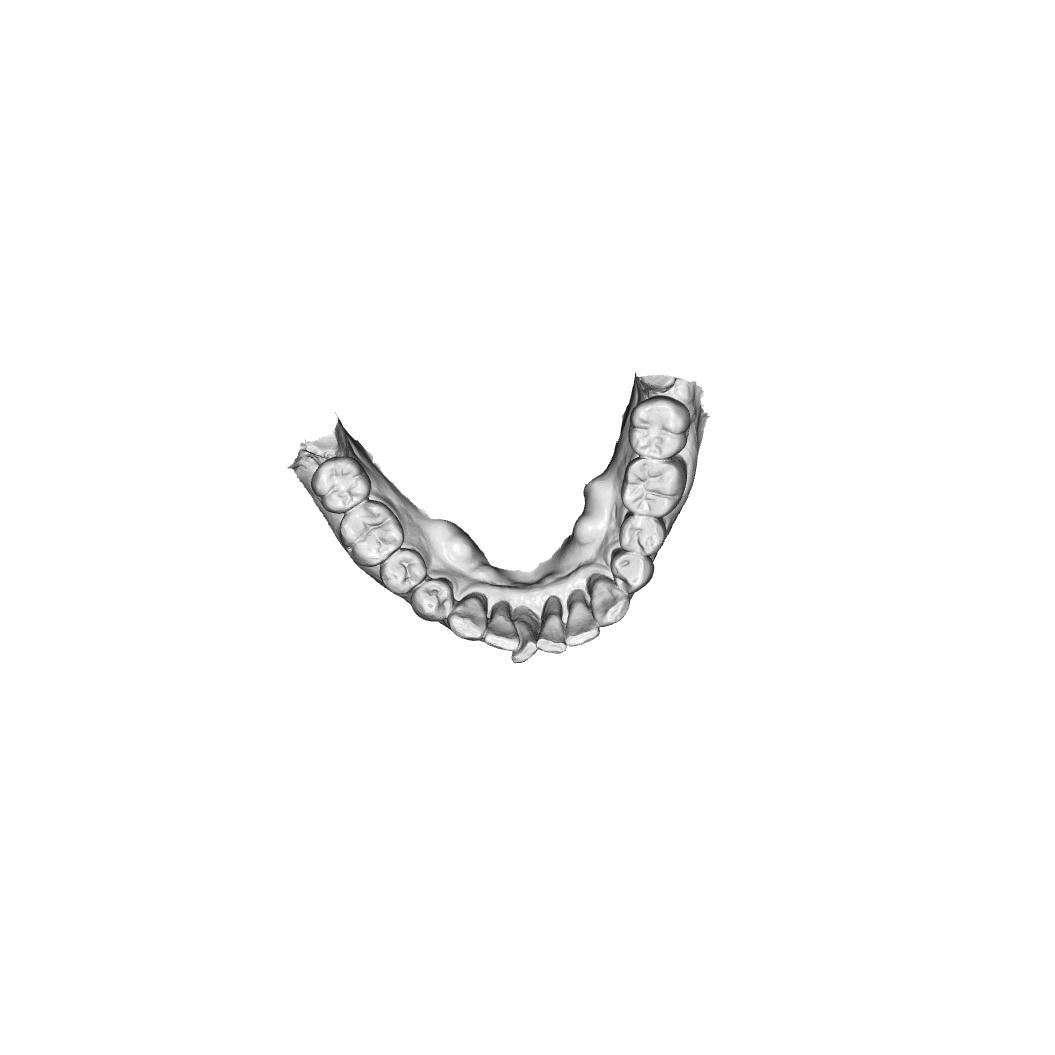canine: (589, 578, 631, 628), (447, 595, 488, 641)
incisor: (563, 600, 601, 648), (484, 611, 520, 653), (536, 612, 567, 655), (511, 617, 538, 664)
molar: (338, 499, 405, 568), (628, 394, 691, 460), (620, 459, 688, 519), (310, 456, 372, 514)
premolar: (380, 548, 428, 595), (618, 515, 668, 557), (410, 578, 455, 622), (610, 551, 655, 593)
